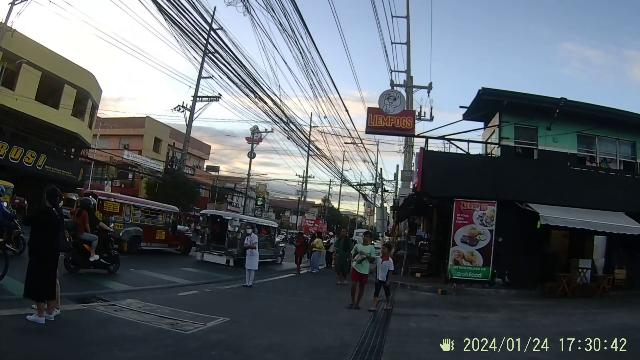utility_post: (360, 1, 422, 280)
